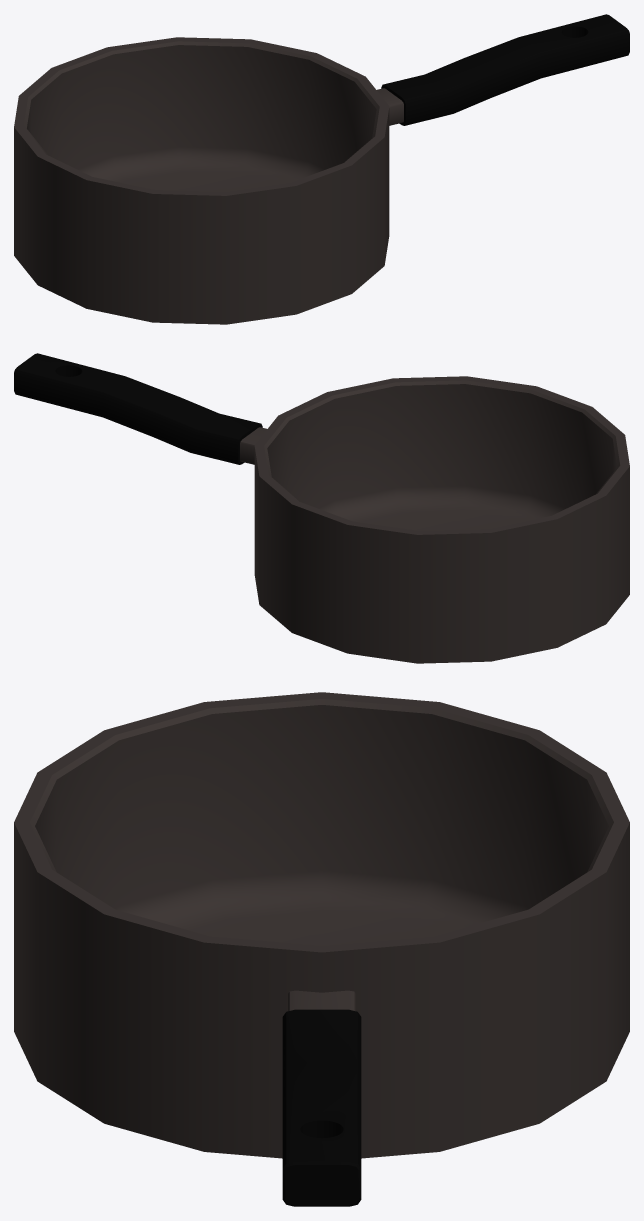
Rendered from LP_sauce_pot1.obj.
3 renders of one model, top to bottom at view 1: azimuth 30°, elevation 25°; view 2: azimuth 150°, elevation 25°; view 3: azimuth 270°, elevation 25°, orthographic. The views are drawn at different scales.
Parts seen in each view (by area): view 1: LP_sauce_pot1.001; view 2: LP_sauce_pot1.001; view 3: LP_sauce_pot1.001.
Part boxes in pixels (<box>): LP_sauce_pot1.001: <box>14,14,629,324</box>; LP_sauce_pot1.001: <box>14,353,629,663</box>; LP_sauce_pot1.001: <box>14,692,629,1206</box>.
Size of the model in its own units: 0.476 by 0.1008 by 0.2687.
